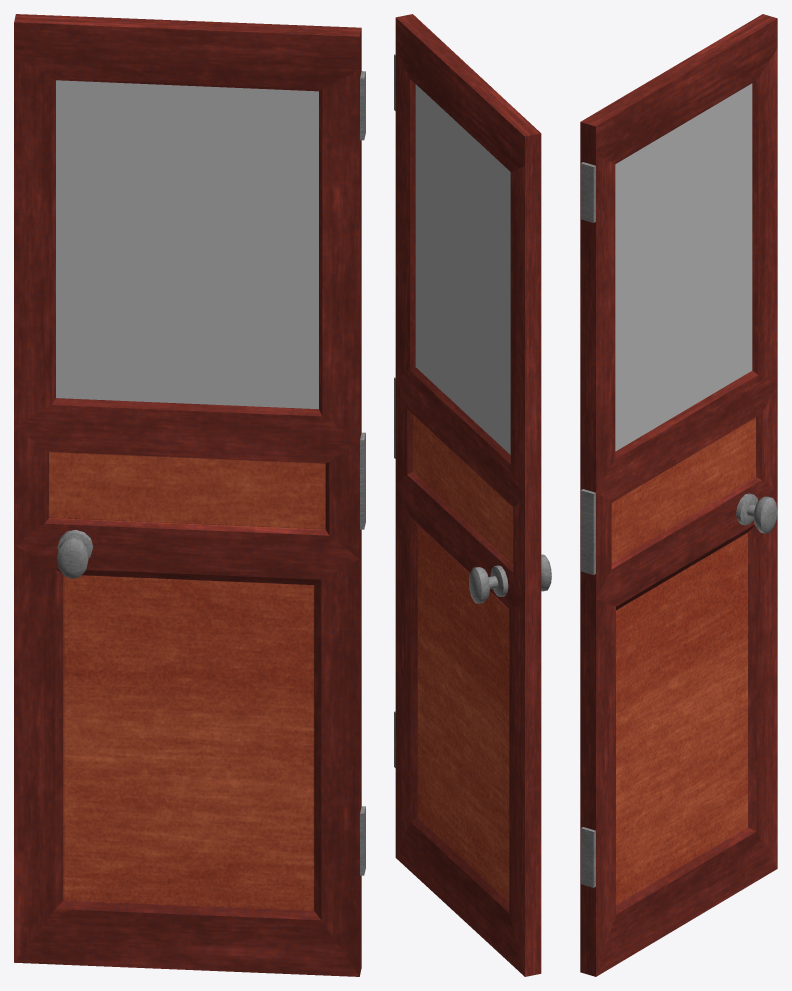
Rendered from SM_Door.fbx.
3 views of the same model, side by side, from view 1: azimuth 30°, elevation 25°; view 2: azimuth 150°, elevation 25°; view 3: azimuth 270°, elevation 25° (orthographic). The views are drawn at different scales.
Visible parts, largest first — view 1: SM_Door; view 2: SM_Door; view 3: SM_Door.
Boxes of the visible parts, x1,y1,x2,y2 form: SM_Door: (14,14,365,976); SM_Door: (394,14,551,976); SM_Door: (580,14,777,976).
Bounding box in the file's own units: 61.9 × 45.35 × 215.
Materials: 2 (1 with a texture image).
